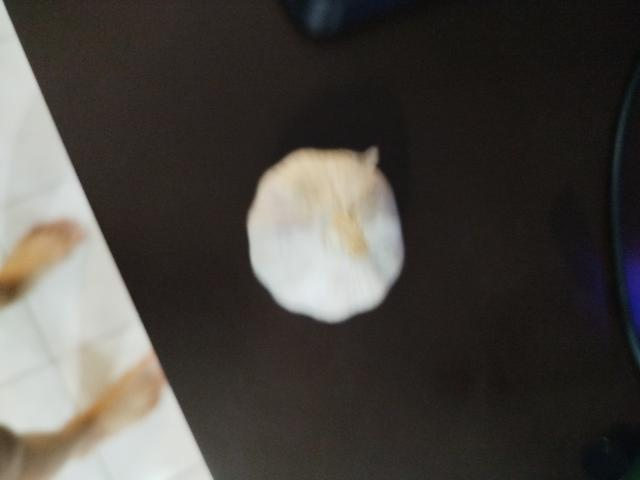garlic: (218, 128, 436, 344)
